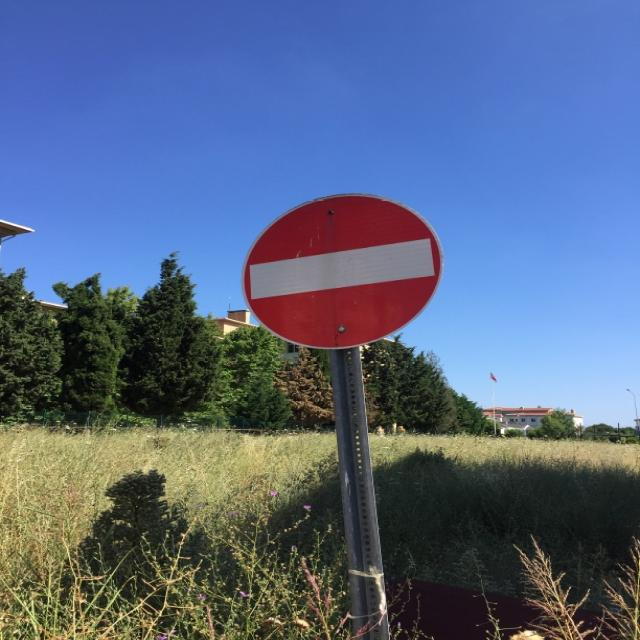girisyok: (240, 193, 442, 351)
